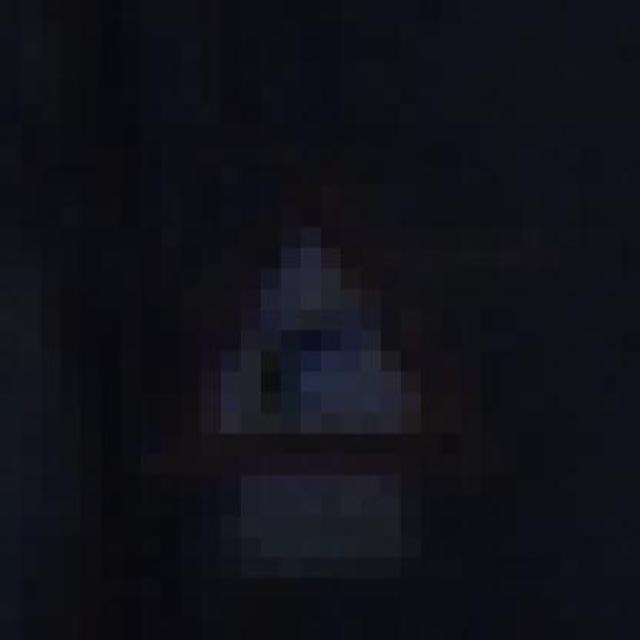Dangerous Rright Curve Ahead: (140, 144, 480, 476)
